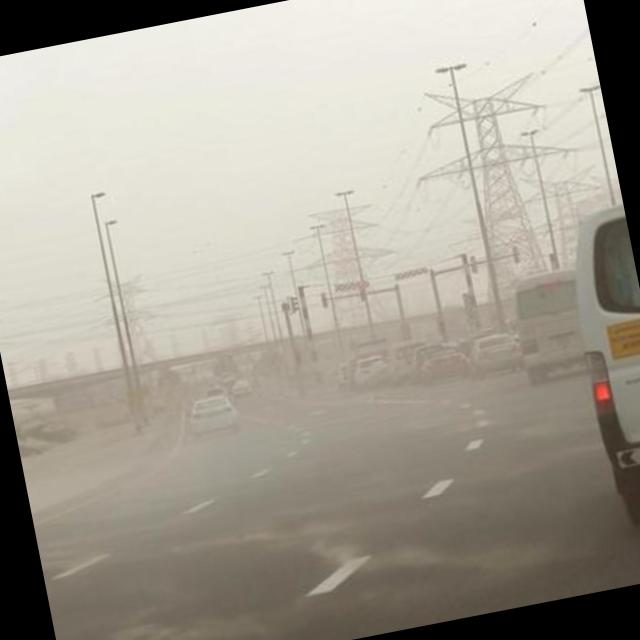car: (463, 330, 526, 381), (413, 342, 473, 388), (186, 390, 242, 439), (352, 358, 390, 392), (228, 378, 253, 400)
